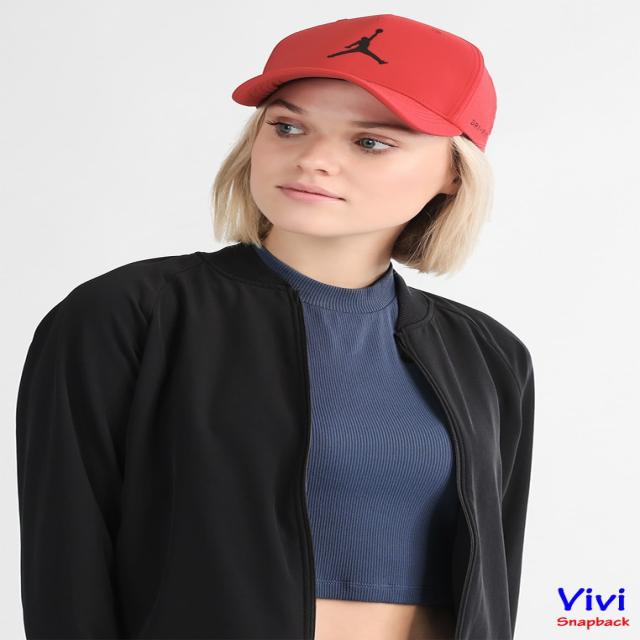no_helmet: (227, 12, 499, 155)
